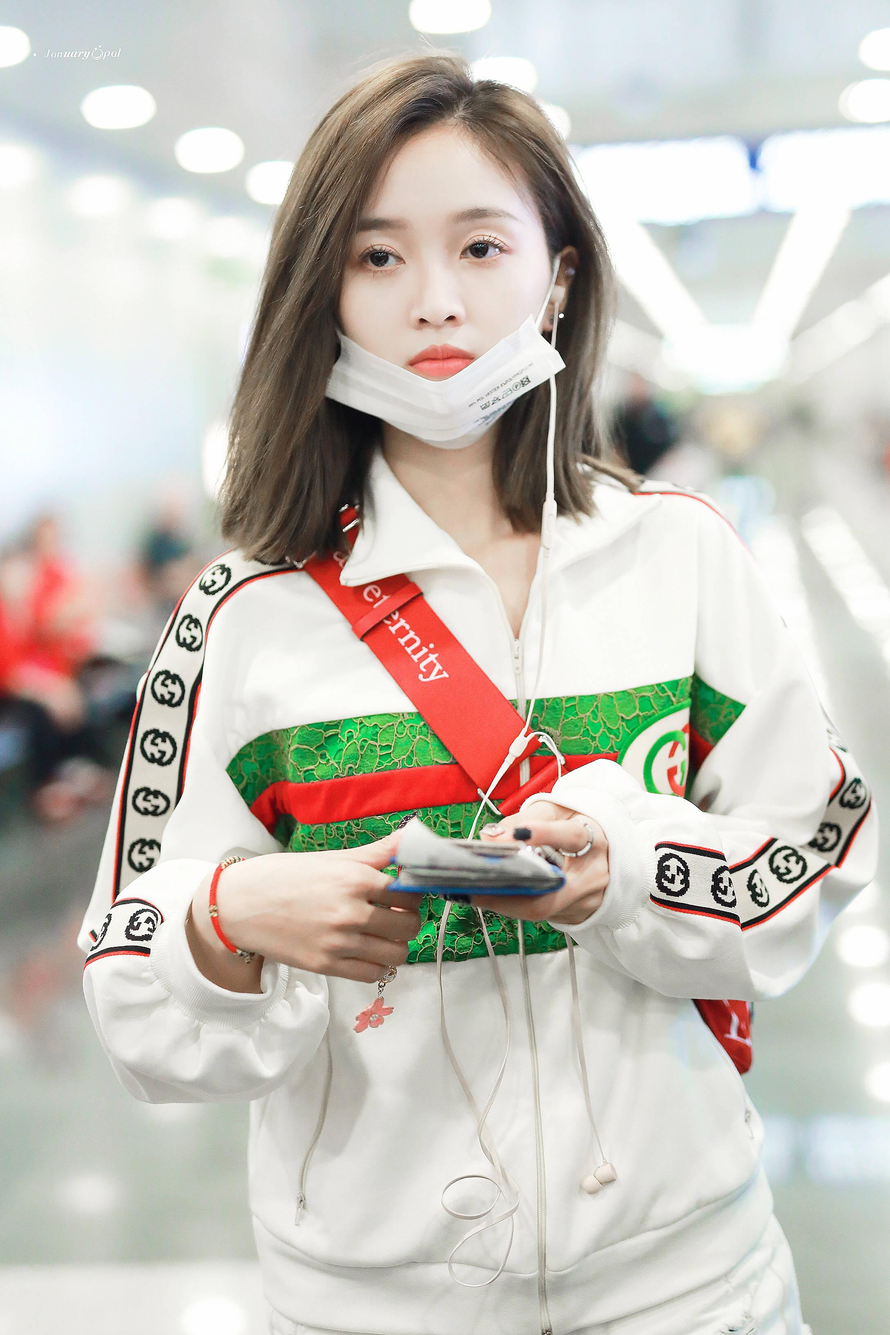WRONG: (328, 160, 547, 435)
